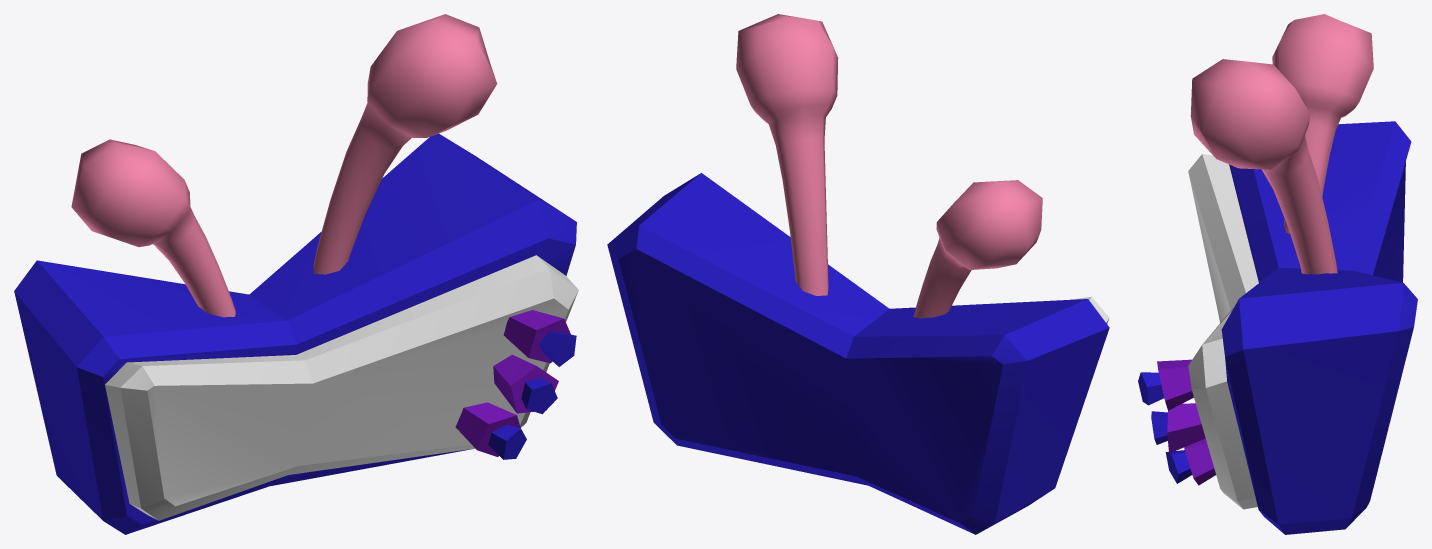
File: SM_Alarm_01.fbx
3 views of the same model, side by side, from view 1: azimuth 30°, elevation 25°; view 2: azimuth 150°, elevation 25°; view 3: azimuth 270°, elevation 25° (orthographic). The views are drawn at different scales.
Visible parts, largest first — view 1: SM_Alarm_01; view 2: SM_Alarm_01; view 3: SM_Alarm_01.
Part boxes in pixels (<box>): SM_Alarm_01: <box>14,14,578,534</box>; SM_Alarm_01: <box>607,14,1109,534</box>; SM_Alarm_01: <box>1138,14,1417,534</box>.
Bounding box in the file's own units: 0.4386 × 0.3864 × 0.2241.
